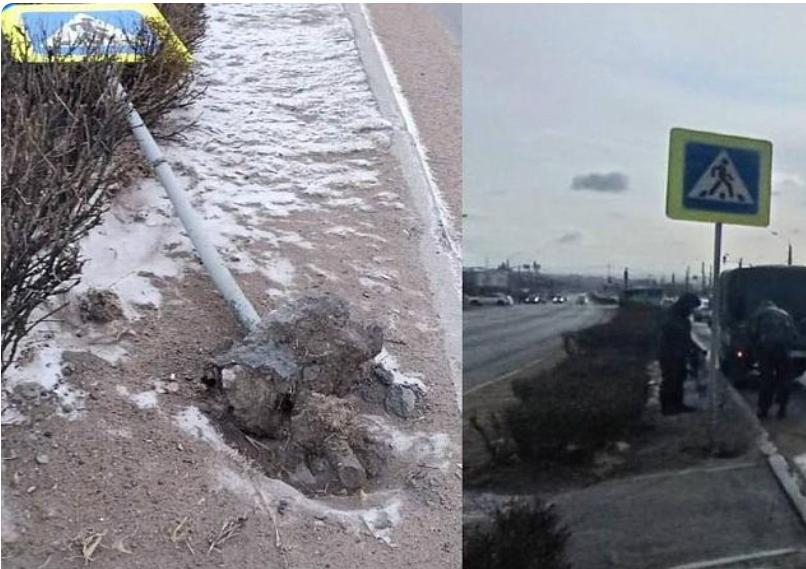obstructed_road_sign: (0, 2, 194, 62)
road_sign: (668, 127, 774, 226)
